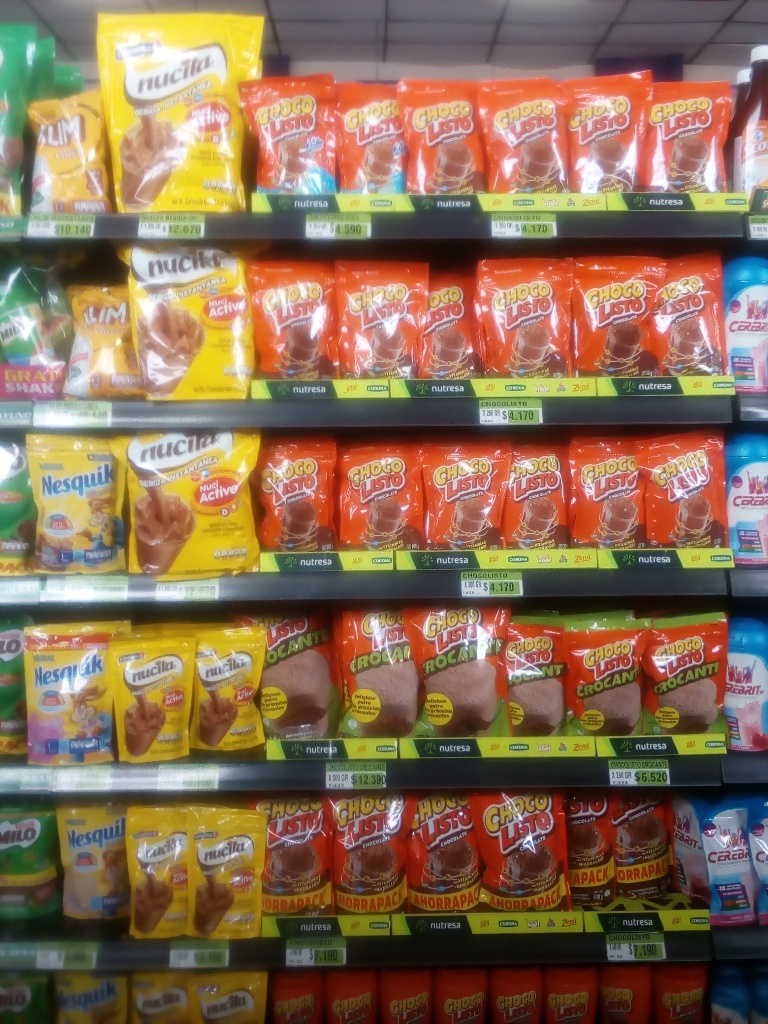COL0170102DYP50000: (403, 601, 514, 739)
COL0170103DYP44000: (610, 788, 681, 899)
COL0170104DYP20000: (333, 82, 409, 195)
COL0170303DYP20000: (19, 432, 125, 578)
COL0170306DYP20000: (53, 799, 129, 920)
